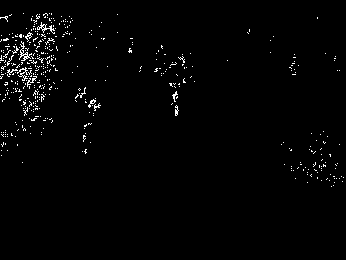person: (74, 85, 101, 156)
